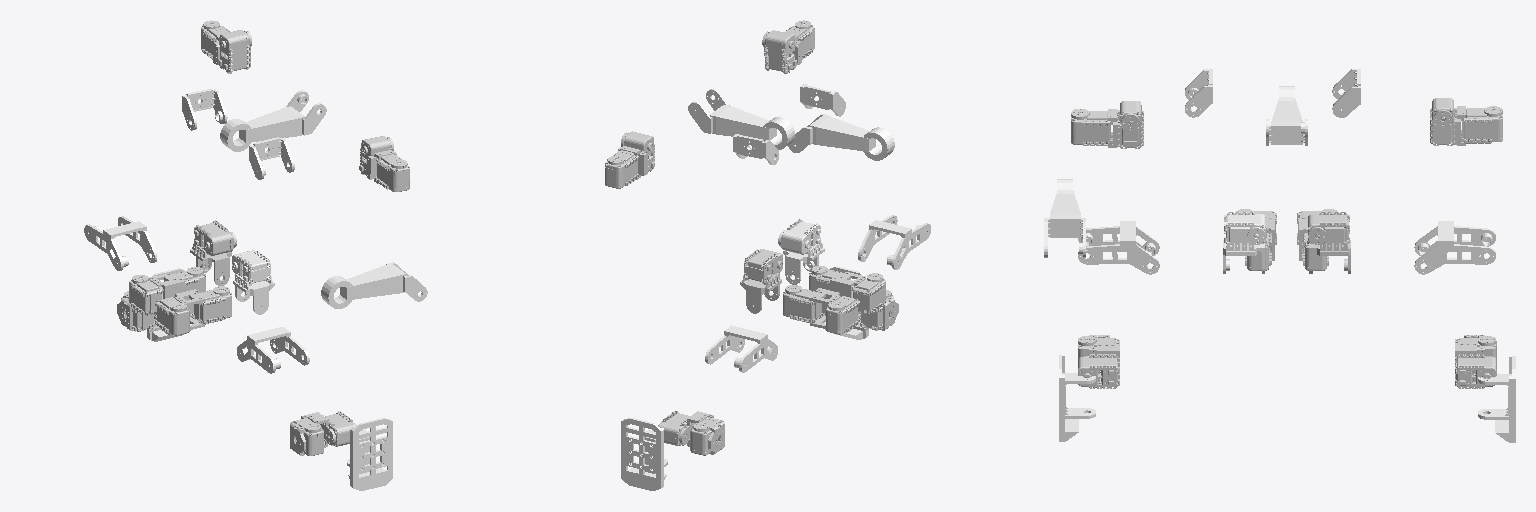
The robot description file, URDF, robot "adam":
<?xml version="1.0" encoding="utf-8"?>
<!-- This URDF was automatically created by SolidWorks to URDF Exporter! Originally created by Stephen Brawner (brawner@gmail.com) 
     Commit Version: 1.6.0-4-g7f85cfe  Build Version: 1.6.7995.38578
     For more information, please see http://wiki.ros.org/sw_urdf_exporter -->
<robot
  name="adam">
  <link
    name="base_link">
    <inertial>
      <origin
        xyz="0.00195020607297603 0.0015365948940603 0.0967410638415927"
        rpy="0 0 0" />
      <mass
        value="0.995206024305125" />
      <inertia
        ixx="0.00209366413502623"
        ixy="-3.44165157573017E-06"
        ixz="-3.76147491081991E-05"
        iyy="0.00104892347800008"
        iyz="4.39264233962694E-07"
        izz="0.00143772727774919" />
    </inertial>
    <visual>
      <origin
        xyz="0 0 0"
        rpy="0 0 0" />
      <geometry>
        <mesh
          filename="package://adam_urdf/meshes/base_link.STL" />
      </geometry>
      <material
        name="">
        <color
          rgba="1 1 1 1" />
      </material>
    </visual>
    <collision>
      <origin
        xyz="0 0 0"
        rpy="0 0 0" />
      <geometry>
        <mesh
          filename="package://adam_urdf/meshes/base_link.STL" />
      </geometry>
    </collision>
  </link>
  <link
    name="pe_quadril">
    <inertial>
      <origin
        xyz="-0.0141537789189758 0.0079442590908788 -0.0203546969084569"
        rpy="0 0 0" />
      <mass
        value="0.0601196297918617" />
      <inertia
        ixx="1.05752664612248E-05"
        ixy="2.77277222042103E-08"
        ixz="1.90980207221988E-07"
        iyy="1.85434270590147E-05"
        iyz="-1.50339397227627E-09"
        izz="1.6833524946486E-05" />
    </inertial>
    <visual>
      <origin
        xyz="0.03625008 -0.01049992 -0.02299991"
        rpy="-2.356194 -1.570791 -2.356194" />
      <geometry>
        <mesh
          filename="package://adam_urdf/meshes/pe_quadril.STL" />
      </geometry>
      <material
        name="">
        <color
          rgba="0.894117647058823 0.894117647058823 0.894117647058823 1" />
      </material>
    </visual>
    <collision>
      <origin
        xyz="0.03625008 -0.01049992 -0.02299991"
        rpy="-2.356194 -1.570791 -2.356194" />
      <geometry>
        <mesh
          filename="package://adam_urdf/meshes/pe_quadril.STL" />
      </geometry>
    </collision>
  </link>
  <joint
    name="pe_roll_quadril_10"
    type="revolute">
    <origin
      xyz="0.023 0.03625 -0.0105"
      rpy="-1.5708 0 -1.5708" />
    <parent
      link="base_link" />
    <child
      link="pe_quadril" />
    <axis
      xyz="0 0 1" />
    <limit
      lower="-2.618"
      upper="2.618"
      effort="1.5"
      velocity="11.9" />
  </joint>
  <link
    name="pe_coxa">
    <inertial>
      <origin
        xyz="-0.0437544713256375 0.000185181434899077 -0.0201107522449157"
        rpy="0 0 0" />
      <mass
        value="0.0968121752379244" />
      <inertia
        ixx="2.17184161505064E-05"
        ixy="2.43915536500787E-07"
        ixz="1.92483601194419E-07"
        iyy="2.15714683155095E-05"
        iyz="1.8947681324991E-07"
        izz="2.23096889825298E-05" />
    </inertial>
    <visual>
      <origin
        xyz="0.04740802 -0.02124498 -0.005799904"
        rpy="-2.356194 -1.570791 -2.356194" />
      <geometry>
        <mesh
          filename="package://adam_urdf/meshes/pe_coxa.STL" />
      </geometry>
      <material
        name="">
        <color
          rgba="0.894117647058823 0.894117647058823 0.894117647058823 1" />
      </material>
    </visual>
    <collision>
      <origin
        xyz="0.04740802 -0.02124498 -0.005799904"
        rpy="-2.356194 -1.570791 -2.356194" />
      <geometry>
        <mesh
          filename="package://adam_urdf/meshes/pe_coxa.STL" />
      </geometry>
    </collision>
  </link>
  <joint
    name="pe_pich_quadril_8"
    type="revolute">
    <origin
      xyz="0.0058 0.047408 -0.021245"
      rpy="-1.5708 0 -1.5708" />
    <parent
      link="pe_quadril" />
    <child
      link="pe_coxa" />
    <axis
      xyz="0 0 1" />
    <limit
      lower="-2.618"
      upper="2.618"
      effort="1.5"
      velocity="11.9" />
  </joint>
  <link
    name="pe_canela">
    <inertial>
      <origin
        xyz="-0.0155527691479751 0.0340638025249013 -0.0245106103270809"
        rpy="0 0 0" />
      <mass
        value="0.0215777608725722" />
      <inertia
        ixx="1.4598978170005E-05"
        ixy="1.0381647060631E-06"
        ixz="1.02719681520551E-07"
        iyy="3.71078393277981E-06"
        iyz="8.18226195330727E-08"
        izz="1.66754319910828E-05" />
    </inertial>
    <visual>
      <origin
        xyz="-0.01570027 -0.07439994 0"
        rpy="0 -0 -1.5708" />
      <geometry>
        <mesh
          filename="package://adam_urdf/meshes/pe_canela.STL" />
      </geometry>
      <material
        name="">
        <color
          rgba="1 1 1 1" />
      </material>
    </visual>
    <collision>
      <origin
        xyz="-0.01570027 -0.07439994 0"
        rpy="0 -0 -1.5708" />
      <geometry>
        <mesh
          filename="package://adam_urdf/meshes/pe_canela.STL" />
      </geometry>
    </collision>
  </link>
  <joint
    name="pe_picht_joelho_6"
    type="revolute">
    <origin
      xyz="-0.0744 0.0157 0"
      rpy="0 0 1.5708" />
    <parent
      link="pe_coxa" />
    <child
      link="pe_canela" />
    <axis
      xyz="0 0 1" />
    <limit
      lower="-2.618"
      upper="2.618"
      effort="1.5"
      velocity="11.9" />
  </joint>
  <link
    name="pe_tornozelo">
    <inertial>
      <origin
        xyz="-0.0134693253818237 -0.0201773771395345 -0.0206205443123456"
        rpy="0 0 0" />
      <mass
        value="0.0955442292607815" />
      <inertia
        ixx="1.49612051029207E-05"
        ixy="2.17234097066861E-07"
        ixz="1.80636636869058E-07"
        iyy="2.43984477219524E-05"
        iyz="2.18629887976326E-10"
        izz="2.25501418470081E-05" />
    </inertial>
    <visual>
      <origin
        xyz="-0.07524105 -0.01319272 0"
        rpy="0 -0 -1.5708" />
      <geometry>
        <mesh
          filename="package://adam_urdf/meshes/pe_tornozelo.STL" />
      </geometry>
      <material
        name="">
        <color
          rgba="0.894117647058823 0.894117647058823 0.894117647058823 1" />
      </material>
    </visual>
    <collision>
      <origin
        xyz="-0.07524105 -0.01319272 0"
        rpy="0 -0 -1.5708" />
      <geometry>
        <mesh
          filename="package://adam_urdf/meshes/pe_tornozelo.STL" />
      </geometry>
    </collision>
  </link>
  <joint
    name="pe_picht_tornozelo_4"
    type="revolute">
    <origin
      xyz="-0.013193 0.075241 0"
      rpy="0 0 1.5708" />
    <parent
      link="pe_canela" />
    <child
      link="pe_tornozelo" />
    <axis
      xyz="0 0 1" />
    <limit
      lower="-2.618"
      upper="2.618"
      effort="1.5"
      velocity="11.9" />
  </joint>
  <link
    name="pe_pe">
    <inertial>
      <origin
        xyz="0.026171545088176 0.00582483538972349 0.0336984569140744"
        rpy="0 0 0" />
      <mass
        value="0.039523089021379" />
      <inertia
        ixx="3.80242718390701E-05"
        ixy="-1.02266302474654E-20"
        ixz="1.64143868327474E-06"
        iyy="2.98020253932323E-05"
        iyz="2.4233636345842E-21"
        izz="1.25379381336875E-05" />
    </inertial>
    <visual>
      <origin
        xyz="-0.0001 -0.02120009 0.02379992"
        rpy="1.5708 -0 0" />
      <geometry>
        <mesh
          filename="package://adam_urdf/meshes/pe_pe.STL" />
      </geometry>
      <material
        name="">
        <color
          rgba="1 1 1 1" />
      </material>
    </visual>
    <collision>
      <origin
        xyz="-0.0001 -0.02120009 0.02379992"
        rpy="1.5708 -0 0" />
      <geometry>
        <mesh
          filename="package://adam_urdf/meshes/pe_pe.STL" />
      </geometry>
    </collision>
  </link>
  <joint
    name="pe_roll_tornozelo_2"
    type="revolute">
    <origin
      xyz="0.0001 -0.0238 -0.0212"
      rpy="-1.5708 0 0" />
    <parent
      link="pe_tornozelo" />
    <child
      link="pe_pe" />
    <axis
      xyz="0 0 1" />
    <limit
      lower="-2.618"
      upper="2.618"
      effort="1.5"
      velocity="11.9" />
  </joint>
  <link
    name="pd_quadril">
    <inertial>
      <origin
        xyz="-0.0141537789189726 -0.00790087330665539 -0.0203546969084566"
        rpy="0 0 0" />
      <mass
        value="0.0601196297918616" />
      <inertia
        ixx="1.05752664612248E-05"
        ixy="-7.10250058785484E-09"
        ixz="1.90980207222048E-07"
        iyy="1.85434270590146E-05"
        iyz="-1.50339397227757E-09"
        izz="1.6833524946486E-05" />
    </inertial>
    <visual>
      <origin
        xyz="0.03625008 0.01049992 -0.02299991"
        rpy="2.356194 -1.570791 2.356194" />
      <geometry>
        <mesh
          filename="package://adam_urdf/meshes/pd_quadril.STL" />
      </geometry>
      <material
        name="">
        <color
          rgba="1 1 1 1" />
      </material>
    </visual>
    <collision>
      <origin
        xyz="0.03625008 0.01049992 -0.02299991"
        rpy="2.356194 -1.570791 2.356194" />
      <geometry>
        <mesh
          filename="package://adam_urdf/meshes/pd_quadril.STL" />
      </geometry>
    </collision>
  </link>
  <joint
    name="pd_roll_quadril_9"
    type="revolute">
    <origin
      xyz="0.023 -0.03625 -0.0105"
      rpy="1.5708 0 1.5708" />
    <parent
      link="base_link" />
    <child
      link="pd_quadril" />
    <axis
      xyz="0 0 1" />
    <limit
      lower="-2.618"
      upper="2.618"
      effort="1.5"
      velocity="11.9" />
  </joint>
  <link
    name="pd_coxa">
    <inertial>
      <origin
        xyz="-0.0437275290812852 -0.000158239190416812 -0.0201107522449149"
        rpy="0 0 0" />
      <mass
        value="0.0968121752379245" />
      <inertia
        ixx="2.17184161505041E-05"
        ixy="-2.43915536525012E-07"
        ixz="1.89476813248759E-07"
        iyy="2.15714683155118E-05"
        iyz="-1.92483601194113E-07"
        izz="2.23096889825298E-05" />
    </inertial>
    <visual>
      <origin
        xyz="0.04740802 0.02124498 -0.005799904"
        rpy="2.356194 -1.570791 2.356194" />
      <geometry>
        <mesh
          filename="package://adam_urdf/meshes/pd_coxa.STL" />
      </geometry>
      <material
        name="">
        <color
          rgba="0.894117647058823 0.894117647058823 0.894117647058823 1" />
      </material>
    </visual>
    <collision>
      <origin
        xyz="0.04740802 0.02124498 -0.005799904"
        rpy="2.356194 -1.570791 2.356194" />
      <geometry>
        <mesh
          filename="package://adam_urdf/meshes/pd_coxa.STL" />
      </geometry>
    </collision>
  </link>
  <joint
    name="pd_picht_quadril_7"
    type="revolute">
    <origin
      xyz="0.0058 -0.047408 -0.021245"
      rpy="1.5708 0 1.5708" />
    <parent
      link="pd_quadril" />
    <child
      link="pd_coxa" />
    <axis
      xyz="0 0 1" />
    <limit
      lower="-2.618"
      upper="2.618"
      effort="1.5"
      velocity="11.9" />
  </joint>
  <link
    name="pd_canela">
    <inertial>
      <origin
        xyz="-0.0155527691480307 -0.0340638025249009 -0.0245106103270773"
        rpy="0 0 0" />
      <mass
        value="0.0215777608725698" />
      <inertia
        ixx="1.45989781700028E-05"
        ixy="-1.03816470606297E-06"
        ixz="1.02719681520544E-07"
        iyy="3.7107839327796E-06"
        iyz="-8.18226195330988E-08"
        izz="1.66754319910805E-05" />
    </inertial>
    <visual>
      <origin
        xyz="-0.01570027 0.07439994 0"
        rpy="0 -0 1.5708" />
      <geometry>
        <mesh
          filename="package://adam_urdf/meshes/pd_canela.STL" />
      </geometry>
      <material
        name="">
        <color
          rgba="1 1 1 1" />
      </material>
    </visual>
    <collision>
      <origin
        xyz="-0.01570027 0.07439994 0"
        rpy="0 -0 1.5708" />
      <geometry>
        <mesh
          filename="package://adam_urdf/meshes/pd_canela.STL" />
      </geometry>
    </collision>
  </link>
  <joint
    name="pd_picht_joelho_5"
    type="revolute">
    <origin
      xyz="-0.0744 -0.0157 0"
      rpy="0 0 -1.5708" />
    <parent
      link="pd_coxa" />
    <child
      link="pd_canela" />
    <axis
      xyz="0 0 1" />
    <limit
      lower="-2.618"
      upper="2.618"
      effort="1.5"
      velocity="11.9" />
  </joint>
  <link
    name="pd_tornozelo">
    <inertial>
      <origin
        xyz="-0.0134718393089086 0.0206532046271628 -0.0205484764347007"
        rpy="0 0 0" />
      <mass
        value="0.0955442292607816" />
      <inertia
        ixx="1.49611784981457E-05"
        ixy="-1.89283747297888E-07"
        ixz="2.01323777574969E-07"
        iyy="2.43984743267275E-05"
        iyz="2.18629887978214E-10"
        izz="2.25501418470081E-05" />
    </inertial>
    <visual>
      <origin
        xyz="-0.07524105 0.01319272 0"
        rpy="0 -0 1.5708" />
      <geometry>
        <mesh
          filename="package://adam_urdf/meshes/pd_tornozelo.STL" />
      </geometry>
      <material
        name="">
        <color
          rgba="0.894117647058823 0.894117647058823 0.894117647058823 1" />
      </material>
    </visual>
    <collision>
      <origin
        xyz="-0.07524105 0.01319272 0"
        rpy="0 -0 1.5708" />
      <geometry>
        <mesh
          filename="package://adam_urdf/meshes/pd_tornozelo.STL" />
      </geometry>
    </collision>
  </link>
  <joint
    name="pd_picht_tornozelo_3"
    type="revolute">
    <origin
      xyz="-0.013193 -0.075241 0"
      rpy="0 0 -1.5708" />
    <parent
      link="pd_canela" />
    <child
      link="pd_tornozelo" />
    <axis
      xyz="0 0 1" />
    <limit
      lower="-2.618"
      upper="2.618"
      effort="1.5"
      velocity="11.9" />
  </joint>
  <link
    name="pd_pe">
    <inertial>
      <origin
        xyz="0.026171545088176 -0.00582483538972349 0.0336984569140743"
        rpy="0 0 0" />
      <mass
        value="0.039523089021379" />
      <inertia
        ixx="3.80242718390703E-05"
        ixy="-1.83320846796506E-20"
        ixz="1.64143868327473E-06"
        iyy="2.98020253932324E-05"
        iyz="1.6708963812625E-20"
        izz="1.25379381336875E-05" />
    </inertial>
    <visual>
      <origin
        xyz="-0.0001 0.02100009 0.02469992"
        rpy="-1.5708 -0 0" />
      <geometry>
        <mesh
          filename="package://adam_urdf/meshes/pd_pe.STL" />
      </geometry>
      <material
        name="">
        <color
          rgba="1 1 1 1" />
      </material>
    </visual>
    <collision>
      <origin
        xyz="-0.0001 0.02100009 0.02469992"
        rpy="-1.5708 -0 0" />
      <geometry>
        <mesh
          filename="package://adam_urdf/meshes/pd_pe.STL" />
      </geometry>
    </collision>
  </link>
  <joint
    name="pd_roll_tornozelo_1"
    type="revolute">
    <origin
      xyz="0.0001 0.0247 -0.021"
      rpy="1.5708 0 0" />
    <parent
      link="pd_tornozelo" />
    <child
      link="pd_pe" />
    <axis
      xyz="0 0 1" />
    <limit
      lower="-2.618"
      upper="2.618"
      effort="1.5"
      velocity="11.9" />
  </joint>
  <link
    name="be_ombro">
    <inertial>
      <origin
        xyz="-0.00591470228756696 -0.000974403883866788 0.0105863111205495"
        rpy="0 0 0" />
      <mass
        value="0.0114060167943632" />
      <inertia
        ixx="5.40994393258749E-06"
        ixy="-1.34316677964226E-07"
        ixz="7.12790037989189E-07"
        iyy="2.25934107800527E-06"
        iyz="1.37966276921573E-07"
        izz="5.57806617636153E-06" />
    </inertial>
    <visual>
      <origin
        xyz="-0.1758 9.689915e-07 0.088"
        rpy="-1.570796 -3.673205e-06 -1.5708" />
      <geometry>
        <mesh
          filename="package://adam_urdf/meshes/be_ombro.STL" />
      </geometry>
      <material
        name="">
        <color
          rgba="1 1 1 1" />
      </material>
    </visual>
    <collision>
      <origin
        xyz="-0.1758 9.689915e-07 0.088"
        rpy="-1.570796 -3.673205e-06 -1.5708" />
      <geometry>
        <mesh
          filename="package://adam_urdf/meshes/be_ombro.STL" />
      </geometry>
    </collision>
  </link>
  <joint
    name="be_picht_ombro_12"
    type="revolute">
    <origin
      xyz="0.0011633 0.088 0.17629"
      rpy="-1.5708 -1.533 0" />
    <parent
      link="base_link" />
    <child
      link="be_ombro" />
    <axis
      xyz="0 0 1" />
    <limit
      lower="-2.618"
      upper="2.618"
      effort="1.5"
      velocity="11.9" />
  </joint>
  <link
    name="be_biceps">
    <inertial>
      <origin
        xyz="-0.036793823856908 -0.000442882193545352 -0.0177975126743866"
        rpy="0 0 0" />
      <mass
        value="0.0942481696340367" />
      <inertia
        ixx="2.02881993989639E-05"
        ixy="8.80921683799235E-09"
        ixz="1.8047650681103E-07"
        iyy="2.28390718448768E-05"
        iyz="-1.9248360119428E-07"
        izz="1.76657308449474E-05" />
    </inertial>
    <visual>
      <origin
        xyz="0.018 0.02300008 -0.02099992"
        rpy="1.5708 -0 0" />
      <geometry>
        <mesh
          filename="package://adam_urdf/meshes/be_biceps.STL" />
      </geometry>
      <material
        name="">
        <color
          rgba="0.894117647058823 0.894117647058823 0.894117647058823 1" />
      </material>
    </visual>
    <collision>
      <origin
        xyz="0.018 0.02300008 -0.02099992"
        rpy="1.5708 -0 0" />
      <geometry>
        <mesh
          filename="package://adam_urdf/meshes/be_biceps.STL" />
      </geometry>
    </collision>
  </link>
  <joint
    name="be_roll_ombro_14"
    type="revolute">
    <origin
      xyz="-0.017193 0.021666 0.023"
      rpy="-1.5708 0 -0.037834" />
    <parent
      link="be_ombro" />
    <child
      link="be_biceps" />
    <axis
      xyz="0 0 1" />
    <limit
      lower="-2.618"
      upper="2.618"
      effort="1.5"
      velocity="11.9" />
  </joint>
  <link
    name="be_antibraco">
    <inertial>
      <origin
        xyz="-0.0171454293155524 0.0590518683884194 -0.0211407829806558"
        rpy="0 0 0" />
      <mass
        value="0.0789439743494325" />
      <inertia
        ixx="0.000102732451603257"
        ixy="3.85915021672152E-06"
        ixz="1.9055441753992E-07"
        iyy="1.52990594639976E-05"
        iyz="-6.56302912725517E-07"
        izz="9.95934733941508E-05" />
    </inertial>
    <visual>
      <origin
        xyz="0.00219978 -0.05990009 -0.02099978"
        rpy="-1.570796 -3.673205e-06 -1.5708" />
      <geometry>
        <mesh
          filename="package://adam_urdf/meshes/be_antibraco.STL" />
      </geometry>
      <material
        name="">
        <color
          rgba="1 1 1 1" />
      </material>
    </visual>
    <collision>
      <origin
        xyz="0.00219978 -0.05990009 -0.02099978"
        rpy="-1.570796 -3.673205e-06 -1.5708" />
      <geometry>
        <mesh
          filename="package://adam_urdf/meshes/be_antibraco.STL" />
      </geometry>
    </collision>
  </link>
  <joint
    name="be_picht_cotovelo_16"
    type="revolute">
    <origin
      xyz="-0.0599 -0.021 -0.0028"
      rpy="1.5708 -1.5708 0" />
    <parent
      link="be_biceps" />
    <child
      link="be_antibraco" />
    <axis
      xyz="0 0 1" />
    <limit
      lower="-2.618"
      upper="2.618"
      effort="1.5"
      velocity="11.9" />
  </joint>
  <link
    name="bd_ombro">
    <inertial>
      <origin
        xyz="-0.00594732563508293 0.000749974802561257 0.0105863121858034"
        rpy="0 0 0" />
      <mass
        value="0.011406014540264" />
      <inertia
        ixx="5.39528149045346E-06"
        ixy="2.53019657155532E-07"
        ixz="7.174986475701E-07"
        iyy="2.27400259138332E-06"
        iyz="-1.10906311459216E-07"
        izz="5.57806541951859E-06" />
    </inertial>
    <visual>
      <origin
        xyz="-0.1762081 -0.005499382 -0.08799998"
        rpy="-1.570796 -3.670582e-06 -1.533" />
      <geometry>
        <mesh
          filename="package://adam_urdf/meshes/bd_ombro.STL" />
      </geometry>
      <material
        name="">
        <color
          rgba="1 1 1 1" />
      </material>
    </visual>
    <collision>
      <origin
        xyz="-0.1762081 -0.005499382 -0.08799998"
        rpy="-1.570796 -3.670582e-06 -1.533" />
      <geometry>
        <mesh
          filename="package://adam_urdf/meshes/bd_ombro.STL" />
      </geometry>
    </collision>
  </link>
  <joint
    name="bd_picht_ombro_11"
    type="revolute">
    <origin
      xyz="0.0011633 -0.088 0.17629"
      rpy="1.5708 -1.533 0" />
    <parent
      link="base_link" />
    <child
      link="bd_ombro" />
    <axis
      xyz="0 0 1" />
    <limit
      lower="-2.618"
      upper="2.618"
      effort="1.5"
      velocity="11.9" />
  </joint>
  <link
    name="bd_biceps">
    <inertial>
      <origin
        xyz="-0.0367661486532937 0.000470557397159774 -0.0180691464227351"
        rpy="0 0 0" />
      <mass
        value="0.0942481696340366" />
      <inertia
        ixx="2.02881993989639E-05"
        ixy="8.80921683807009E-09"
        ixz="2.01483907633003E-07"
        iyy="2.28390718448768E-05"
        iyz="1.89476813249758E-07"
        izz="1.76657308449474E-05" />
    </inertial>
    <visual>
      <origin
        xyz="0.01800021 -0.02300008 -0.02100009"
        rpy="-1.5708 -0.037834 1.390384e-07" />
      <geometry>
        <mesh
          filename="package://adam_urdf/meshes/bd_biceps.STL" />
      </geometry>
      <material
        name="">
        <color
          rgba="0.894117647058823 0.894117647058823 0.894117647058823 1" />
      </material>
    </visual>
    <collision>
      <origin
        xyz="0.01800021 -0.02300008 -0.02100009"
        rpy="-1.5708 -0.037834 1.390384e-07" />
      <geometry>
        <mesh
          filename="package://adam_urdf/meshes/bd_biceps.STL" />
      </geometry>
    </collision>
  </link>
  <joint
    name="bd_roll_ombro_13"
    type="revolute">
    <origin
      xyz="-0.017193 -0.021666 0.023"
      rpy="1.5708 0 0.037834" />
    <parent
      link="bd_ombro" />
    <child
      link="bd_biceps" />
    <axis
      xyz="0 0 1" />
    <limit
      lower="-2.618"
      upper="2.618"
      effort="1.5"
      velocity="11.9" />
  </joint>
  <link
    name="bd_antibraco">
    <inertial>
      <origin
        xyz="-0.0171277804535932 -0.0590518901995056 -0.0211407837221133"
        rpy="0 0 0" />
      <mass
        value="0.0789440281616455" />
      <inertia
        ixx="0.000102732517538214"
        ixy="-3.84562112918514E-06"
        ixz="1.90358865799656E-07"
        iyy="1.5296720979341E-05"
        iyz="6.56305147998297E-07"
        izz="9.95911961155254E-05" />
    </inertial>
    <visual>
      <origin
        xyz="0.00279978 -0.05989993 0.02100022"
        rpy="-1.570796 -3.673205e-06 -1.5708" />
      <geometry>
        <mesh
          filename="package://adam_urdf/meshes/bd_antibraco.STL" />
      </geometry>
      <material
        name="">
        <color
          rgba="1 1 1 1" />
      </material>
    </visual>
    <collision>
      <origin
        xyz="0.00279978 -0.05989993 0.02100022"
        rpy="-1.570796 -3.673205e-06 -1.5708" />
      <geometry>
        <mesh
          filename="package://adam_urdf/meshes/bd_antibraco.STL" />
      </geometry>
    </collision>
  </link>
  <joint
    name="bd_picht_cotovelo_15"
    type="revolute">
    <origin
      xyz="-0.0599 0.021 -0.0028"
      rpy="1.5708 -1.5708 3.141593" />
    <parent
      link="bd_biceps" />
    <child
      link="bd_antibraco" />
    <axis
      xyz="0 0 1" />
    <limit
      lower="-2.618"
      upper="2.618"
      effort="1.5"
      velocity="11.9" />
  </joint>
</robot>

--- Render facts (derived) ---
The picture shows the robot from 3 angles, left to right: view 1: azimuth 30°, elevation 25°; view 2: azimuth 150°, elevation 25°; view 3: azimuth 270°, elevation 25°; orthographic projection.
Model adam with 17 links and 16 joints (16 revolute), rooted at base_link, posed every joint at zero.
Links seen in each view (by area): view 1: be_antibraco, pd_pe, pd_coxa, bd_antibraco, pd_tornozelo, pe_coxa, bd_biceps, be_biceps, pe_quadril, pd_quadril, pd_canela, pe_canela (+3 smaller); view 2: be_antibraco, pe_pe, pe_coxa, bd_antibraco, pe_tornozelo, pd_coxa, be_biceps, bd_biceps, pe_quadril, pd_quadril, pe_canela, pd_canela (+3 smaller); view 3: be_biceps, bd_biceps, pe_canela, pd_canela, pd_tornozelo, pe_tornozelo, pe_quadril, pd_quadril, bd_antibraco, be_antibraco, pe_pe, pd_pe (+4 smaller).
Boxes of the visible links, left/top/right/bottom form: be_antibraco: left=220, top=90, right=326, bottom=151; pd_pe: left=347, top=418, right=392, bottom=490; pd_coxa: left=155, top=286, right=231, bottom=335; bd_antibraco: left=321, top=262, right=427, bottom=308; pd_tornozelo: left=290, top=411, right=356, bottom=455; pe_coxa: left=129, top=267, right=205, bottom=315; bd_biceps: left=359, top=136, right=409, bottom=191; be_biceps: left=201, top=20, right=251, bottom=73; pe_quadril: left=190, top=220, right=236, bottom=285; pd_quadril: left=232, top=250, right=274, bottom=314; pd_canela: left=237, top=327, right=309, bottom=373; pe_canela: left=84, top=216, right=156, bottom=270; be_antibraco: left=688, top=89, right=794, bottom=149; pe_pe: left=621, top=417, right=667, bottom=490; pe_coxa: left=783, top=285, right=859, bottom=334; bd_antibraco: left=788, top=114, right=894, bottom=160; pe_tornozelo: left=658, top=411, right=724, bottom=455; pd_coxa: left=809, top=266, right=885, bottom=314; be_biceps: left=605, top=131, right=654, bottom=188; bd_biceps: left=762, top=20, right=814, bottom=73; pe_quadril: left=740, top=249, right=782, bottom=313; pd_quadril: left=778, top=219, right=824, bottom=284; pe_canela: left=705, top=325, right=777, bottom=372; pd_canela: left=858, top=215, right=930, bottom=269; be_biceps: left=1430, top=98, right=1502, bottom=145; bd_biceps: left=1071, top=101, right=1143, bottom=148; pe_canela: left=1414, top=221, right=1495, bottom=274; pd_canela: left=1078, top=221, right=1159, bottom=274; pd_tornozelo: left=1078, top=335, right=1119, bottom=388; pe_tornozelo: left=1455, top=335, right=1496, bottom=388; pe_quadril: left=1308, top=212, right=1350, bottom=273; pd_quadril: left=1223, top=212, right=1265, bottom=273; bd_antibraco: left=1044, top=179, right=1085, bottom=257; be_antibraco: left=1266, top=86, right=1307, bottom=145; pe_pe: left=1478, top=356, right=1515, bottom=442; pd_pe: left=1059, top=355, right=1095, bottom=441.
Bounding box of the posed robot: 0.2595 × 0.5611 × 0.4631 m (x, y, z).
Meshes: 17 distinct files referenced, 16 mesh visuals loaded (16 binary STL); not drawn: 1 (reference not matched to a file when rendering).
